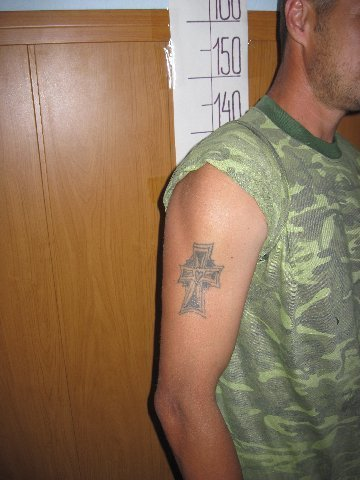tatu9_krest: (170, 234, 227, 322)
